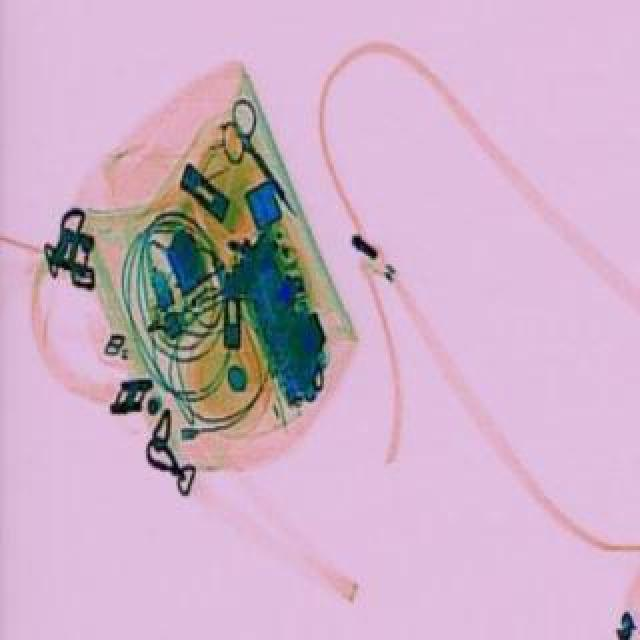pliers: (198, 92, 314, 220)
